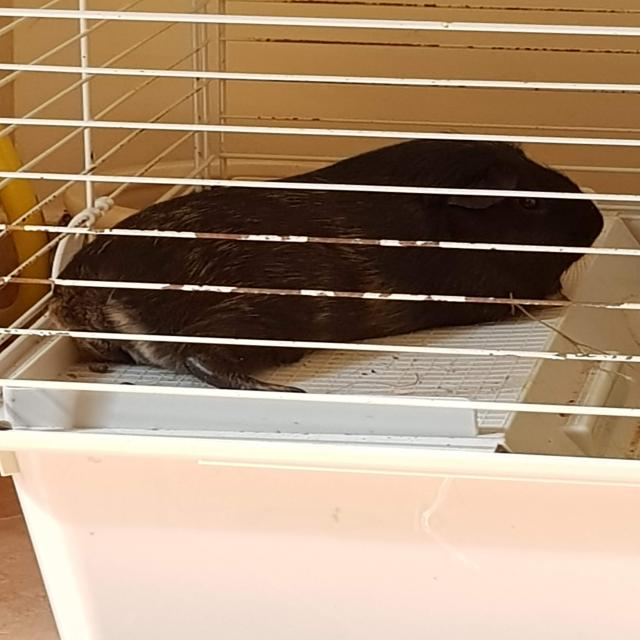guinea pig: (48, 133, 606, 402)
